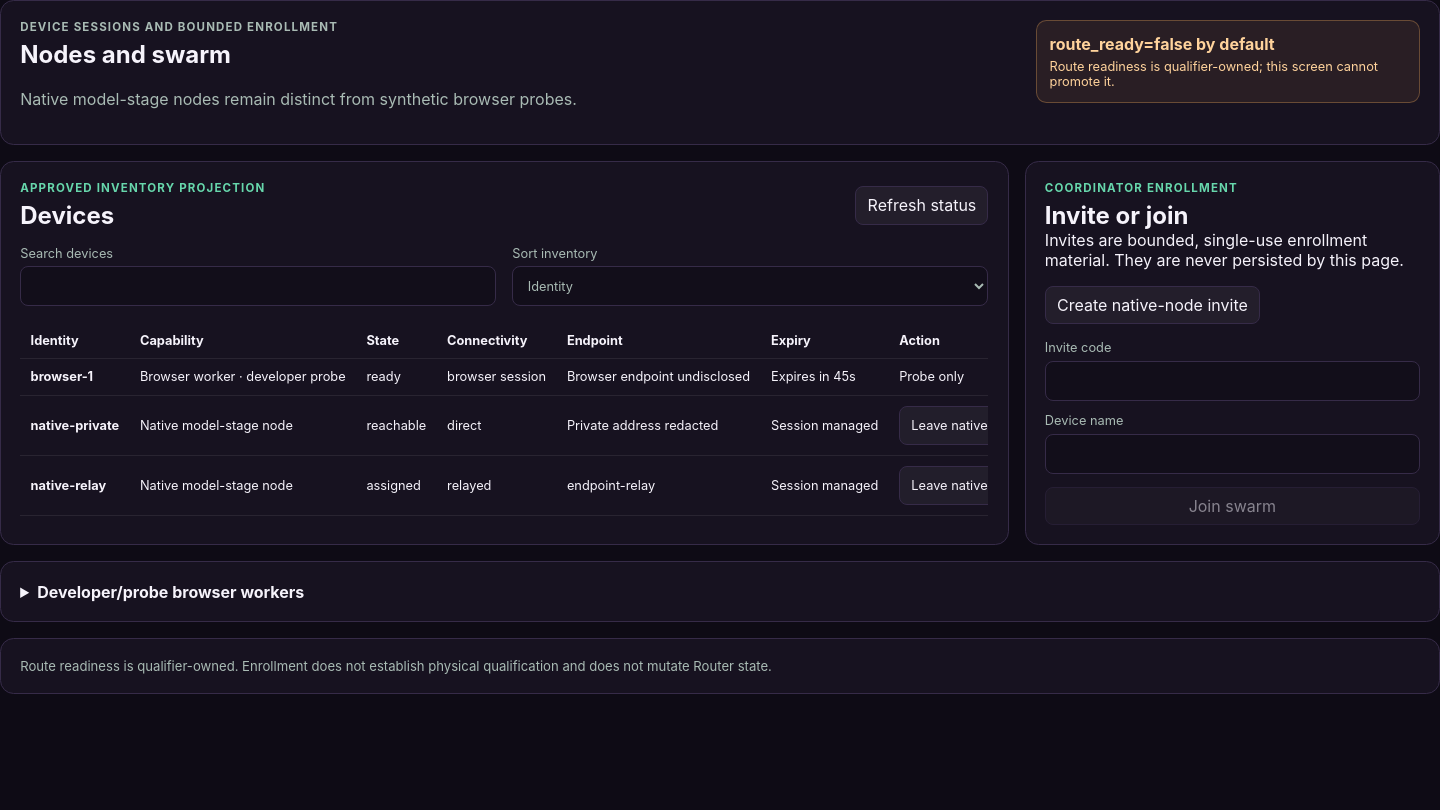
Test case: SwarmWorkspace › joins through the coordinator and refreshes status without persisting the invite code
Type "one-time-enrollment-code-1234" into the field labelled "Invite code".
click(1232, 381); type("one-time-enrollment-code-1234")  # box [1045, 361, 1420, 401]
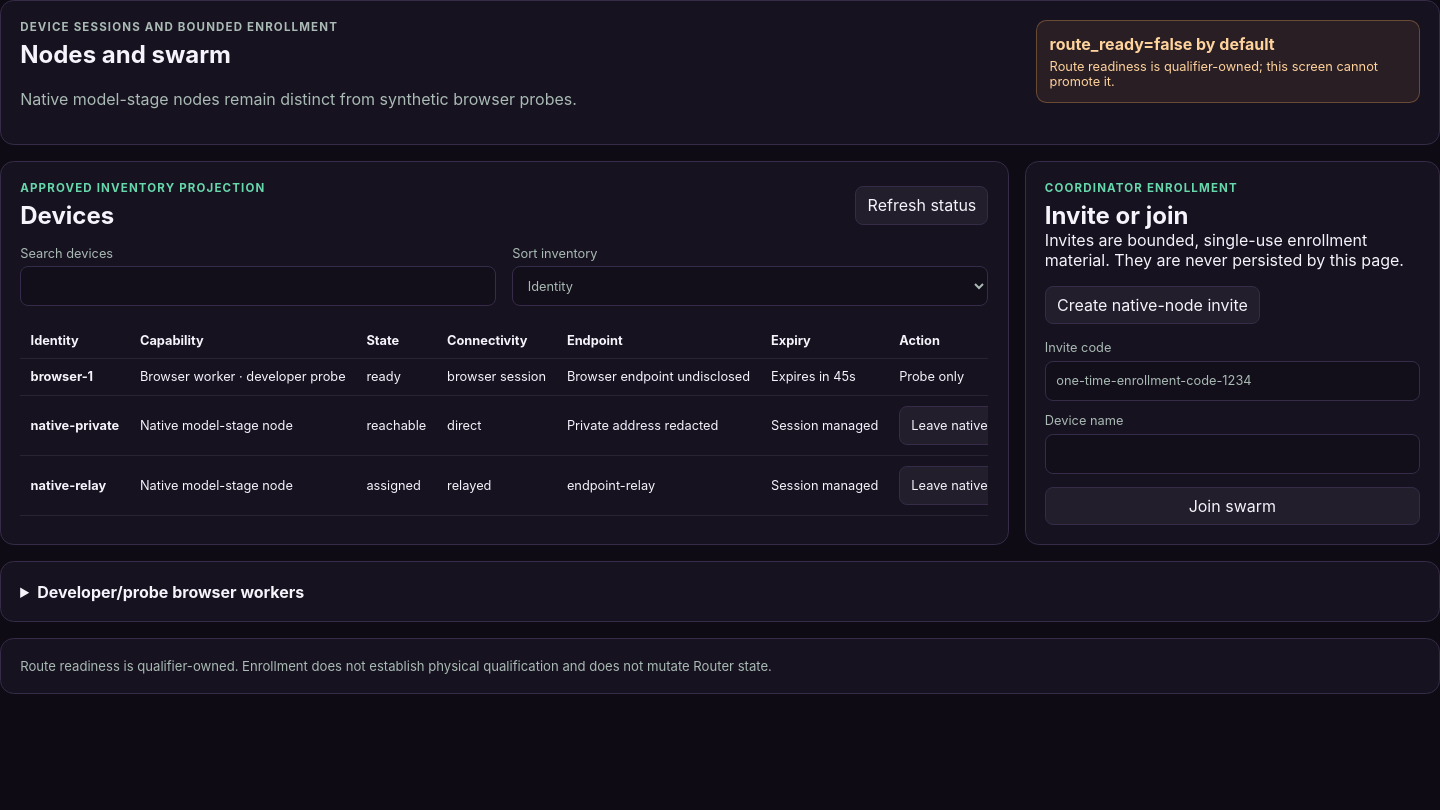
Type "Desk node" into the field labelled "Device name".
click(1232, 454); type("Desk node")  # box [1045, 434, 1420, 474]
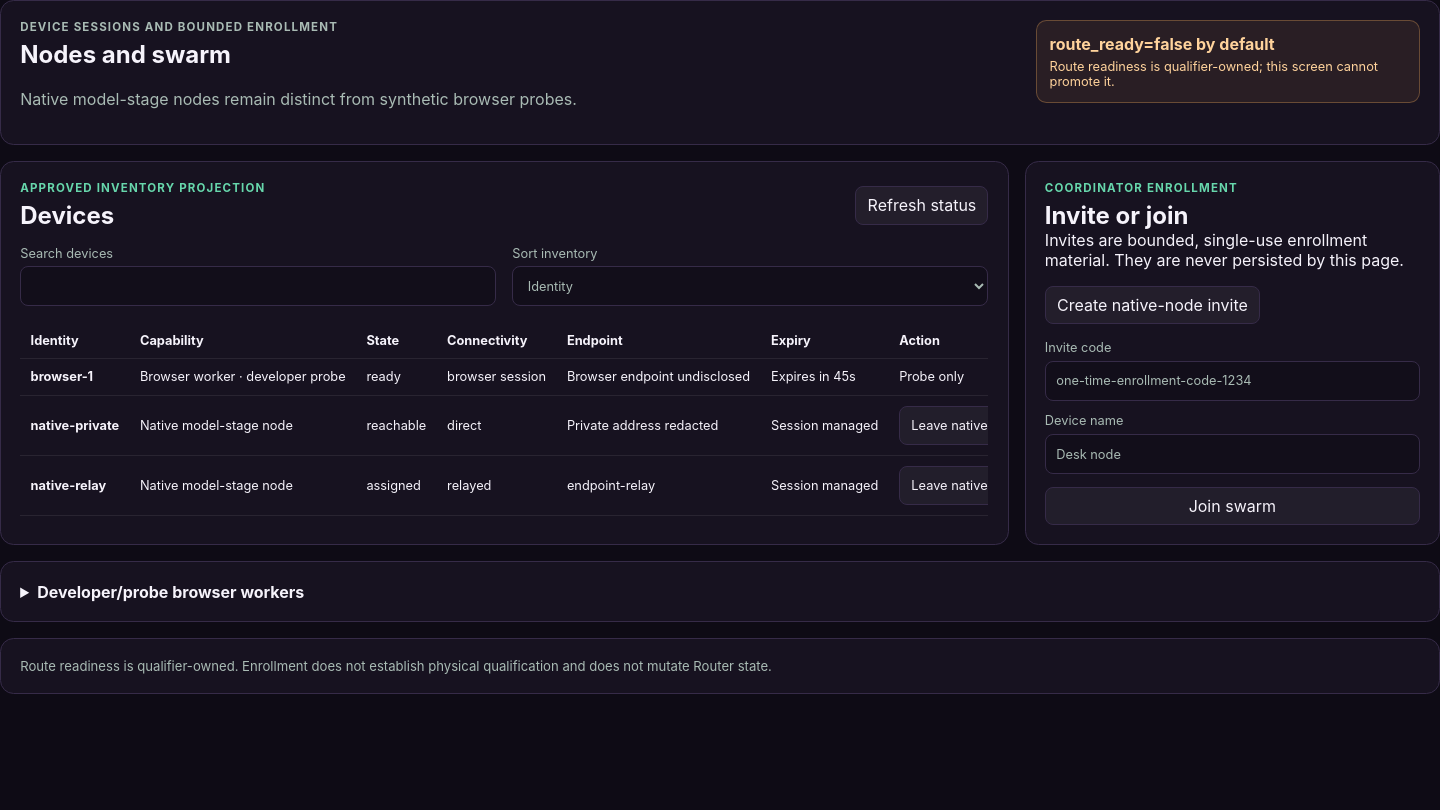
Click the button "Join swarm".
click(1232, 506)  # box [1045, 487, 1420, 525]
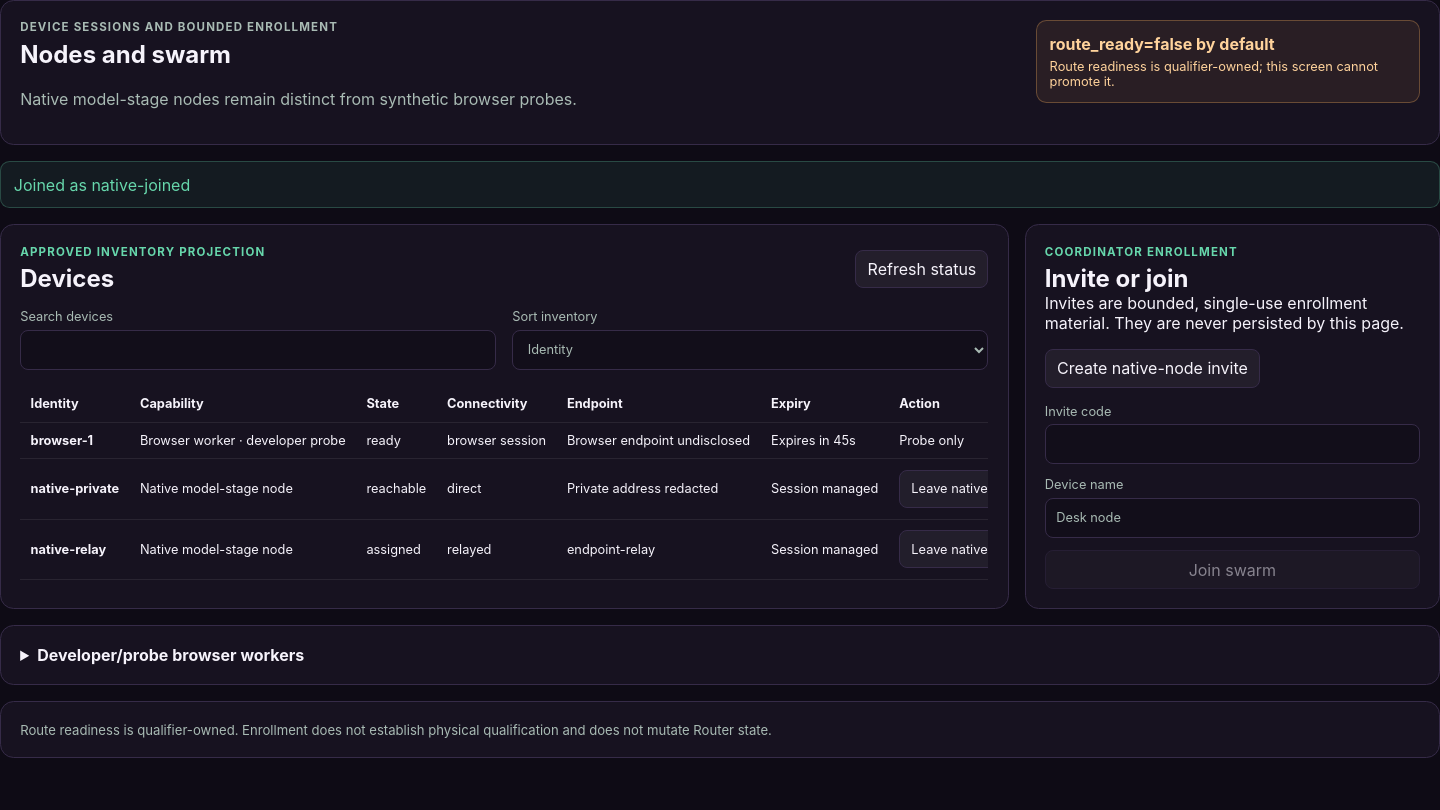
Result: the text "Joined as native-joined" is shown at [0, 161, 1439, 208]
Result: the field labelled "Invite code" is empty at [1045, 424, 1420, 464]
